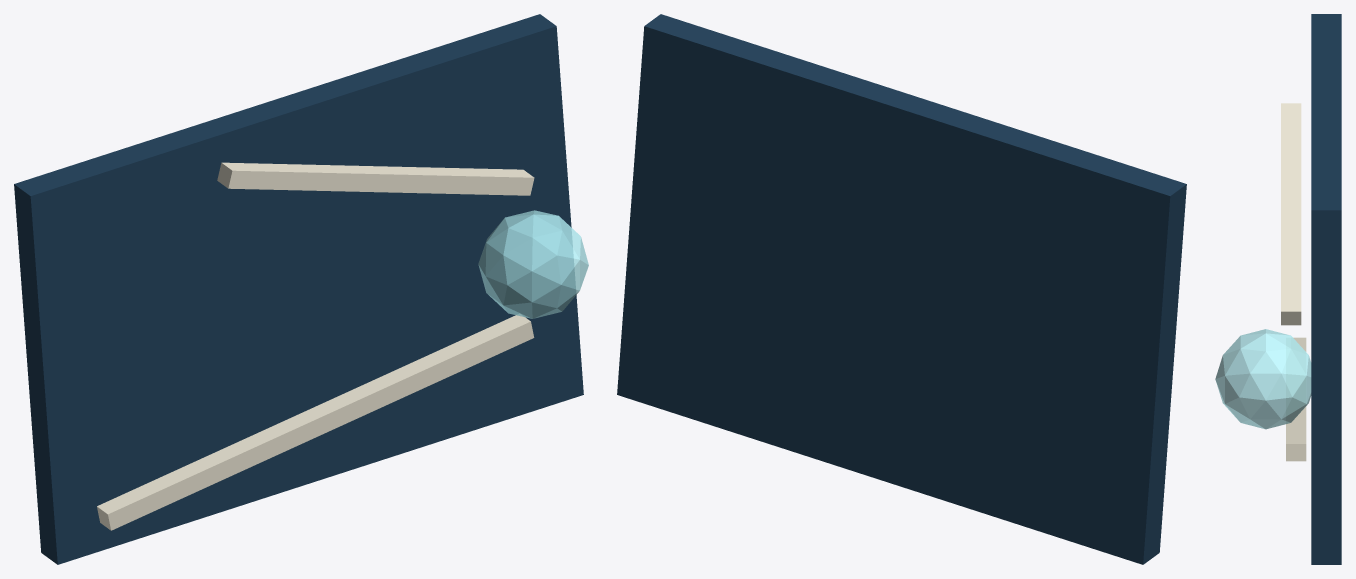
Rendered from 02_world_prop_polish.glb.
The picture shows the model from 3 angles, left to right: view 1: azimuth 30°, elevation 25°; view 2: azimuth 150°, elevation 25°; view 3: azimuth 270°, elevation 25°; orthographic projection. The views are drawn at different scales.
Visible parts, largest first — view 1: object_overlay_plate, edge_wear_a, glow_socket, edge_wear_b; view 2: object_overlay_plate; view 3: object_overlay_plate, glow_socket, edge_wear_b, edge_wear_a.
Boxes of the visible parts, box(x1,y1,x2,y2) form: object_overlay_plate: box(14, 14, 583, 564); edge_wear_a: box(97, 314, 534, 530); glow_socket: box(478, 210, 588, 318); edge_wear_b: box(217, 162, 534, 195); object_overlay_plate: box(617, 14, 1186, 564); object_overlay_plate: box(1311, 14, 1341, 564); glow_socket: box(1215, 329, 1311, 429); edge_wear_b: box(1281, 103, 1301, 325); edge_wear_a: box(1286, 337, 1306, 461).
Bounding box in the file's own units: 1.15 × 0.831 × 0.25.
